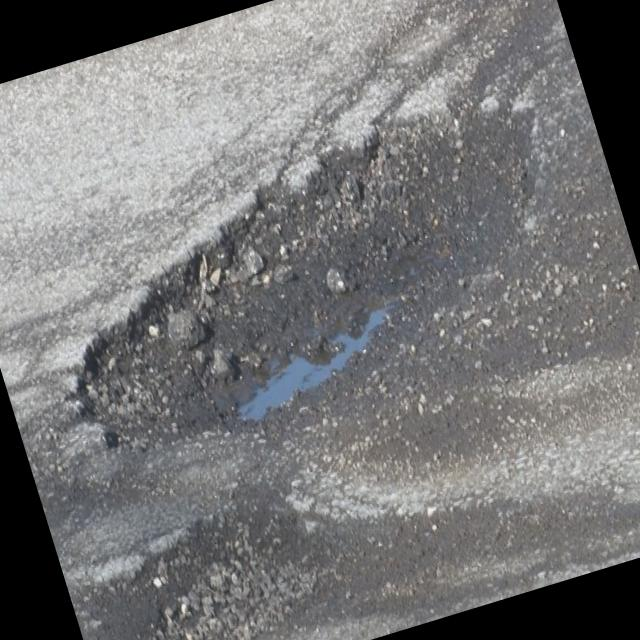Potholes: (22, 94, 590, 470)
